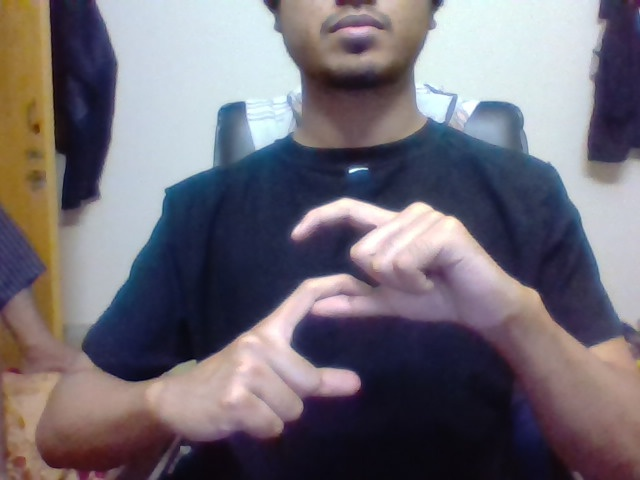S: (281, 191, 374, 399)
